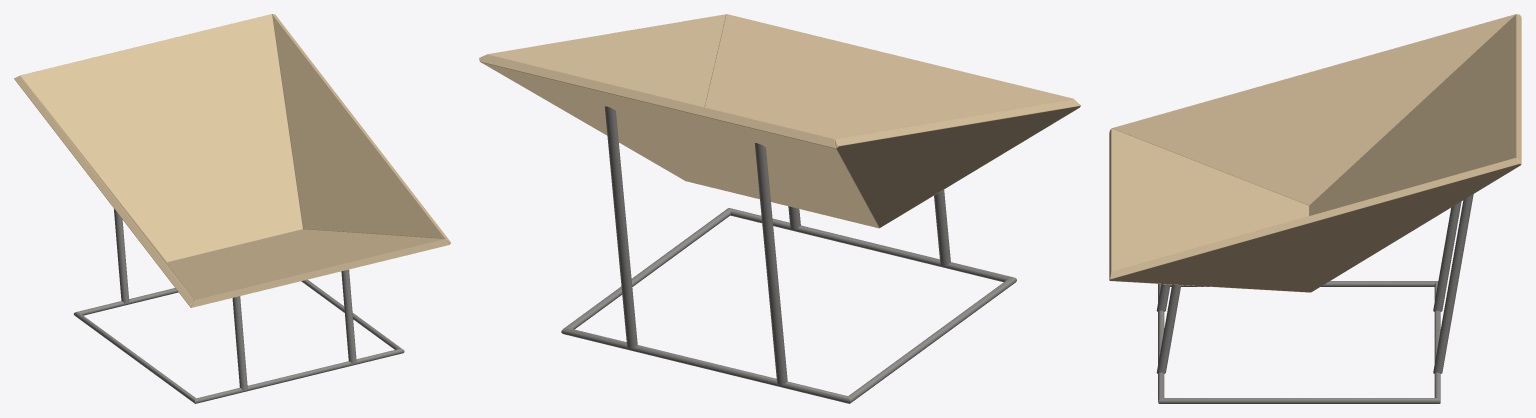
File: folded-chair.glb
The picture shows the model from 3 angles, left to right: view 1: azimuth 30°, elevation 25°; view 2: azimuth 150°, elevation 25°; view 3: azimuth 270°, elevation 25°; orthographic projection. The views are drawn at different scales.
Visible parts, largest first — view 1: FC-panel_back, FC-panel_side_L, FC-panel_seat, FC-base, FC-panel_side_R; view 2: FC-panel_seat, FC-panel_back, FC-base, FC-panel_side_R, FC-panel_side_L; view 3: FC-panel_side_R, FC-panel_side_L, FC-panel_back, FC-panel_seat, FC-base.
Part boxes in pixels (box(x1,y1,x2,y2)): FC-panel_back: box(20, 14, 302, 262); FC-panel_side_L: box(272, 14, 450, 243); FC-panel_seat: box(167, 229, 449, 307); FC-base: box(74, 209, 404, 403); FC-panel_side_R: box(14, 76, 193, 307); FC-panel_seat: box(685, 14, 1078, 228); FC-panel_back: box(480, 54, 879, 227); FC-base: box(561, 106, 1016, 403); FC-panel_side_R: box(834, 99, 1080, 227); FC-panel_side_L: box(479, 14, 725, 106); FC-panel_side_R: box(1109, 14, 1520, 205); FC-panel_side_L: box(1109, 158, 1521, 292); FC-panel_back: box(1309, 14, 1521, 215); FC-panel_seat: box(1109, 128, 1309, 292); FC-base: box(1156, 194, 1473, 403).
Size of the model in its own units: 1.04 by 0.8431 by 1.21.
